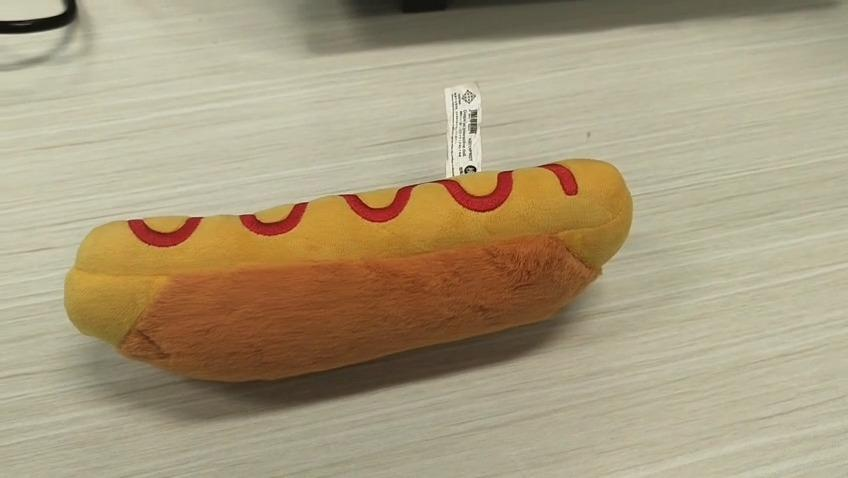hotdog: (63, 155, 633, 384)
